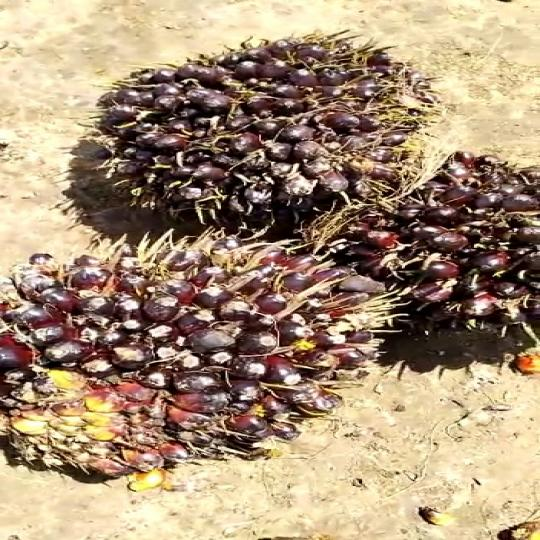mentah: (0, 230, 393, 491), (62, 26, 428, 232), (330, 146, 540, 370)
